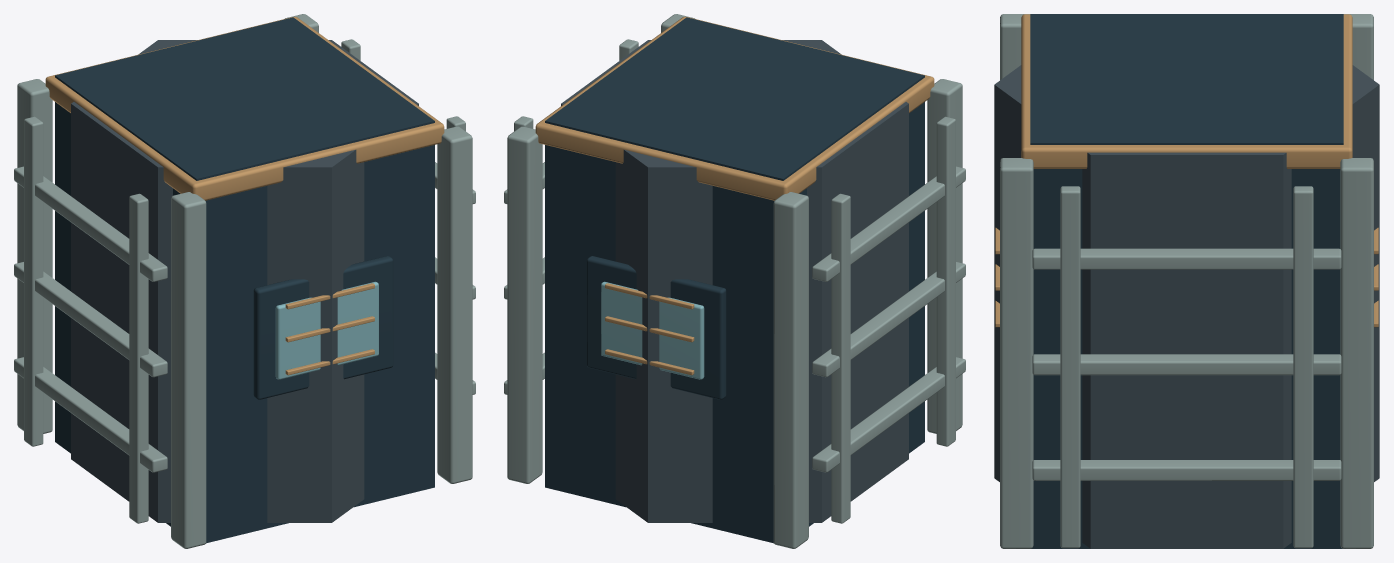
Rendered from receiver-top-0.glb.
3 renders of one model, left to right at view 1: azimuth 30°, elevation 25°; view 2: azimuth 150°, elevation 25°; view 3: azimuth 270°, elevation 25°, orthographic. The views are drawn at different scales.
Parts seen in each view (by area): view 1: receiver_2, receiver_1, receiver_0, receiver_3, receiver_4; view 2: receiver_2, receiver_1, receiver_0, receiver_3, receiver_4; view 3: receiver_0, receiver_2, receiver_1, receiver_3.
Part boxes in pixels (x1=…): receiver_2: x1=55, y1=17, x2=434, y2=543; receiver_1: x1=14, y1=14, x2=475, y2=548; receiver_0: x1=71, y1=40, x2=418, y2=522; receiver_3: x1=45, y1=16, x2=444, y2=375; receiver_4: x1=275, y1=281, x2=378, y2=379; receiver_2: x1=545, y1=17, x2=924, y2=543; receiver_1: x1=504, y1=14, x2=965, y2=548; receiver_0: x1=561, y1=40, x2=908, y2=522; receiver_3: x1=535, y1=16, x2=934, y2=375; receiver_4: x1=601, y1=281, x2=704, y2=379; receiver_0: x1=994, y1=65, x2=1379, y2=548; receiver_2: x1=1030, y1=14, x2=1343, y2=548; receiver_1: x1=1000, y1=14, x2=1373, y2=548; receiver_3: x1=995, y1=14, x2=1378, y2=327.
Bounding box in the file's own units: 0.94 × 1 × 0.86.
